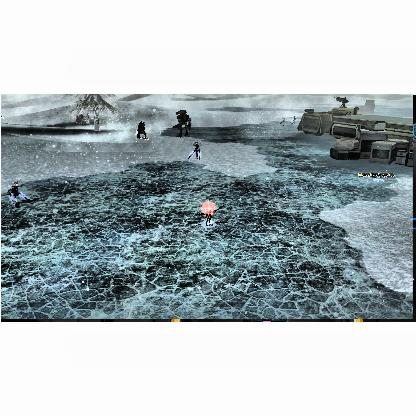caliana: (6, 182, 31, 206), (186, 142, 202, 160), (288, 115, 296, 124), (280, 116, 284, 126)
